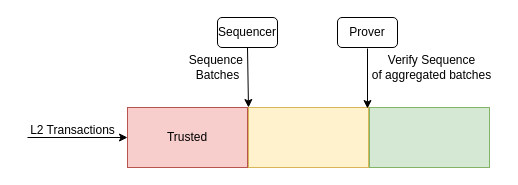
Image size: 518x185. Some labels were removed from this diagram. Here are the shapes that lost their labels. From the top down, the box of each, then its label:
(248, 106, 368, 168): Virtual
(368, 106, 490, 168): Consolidated
